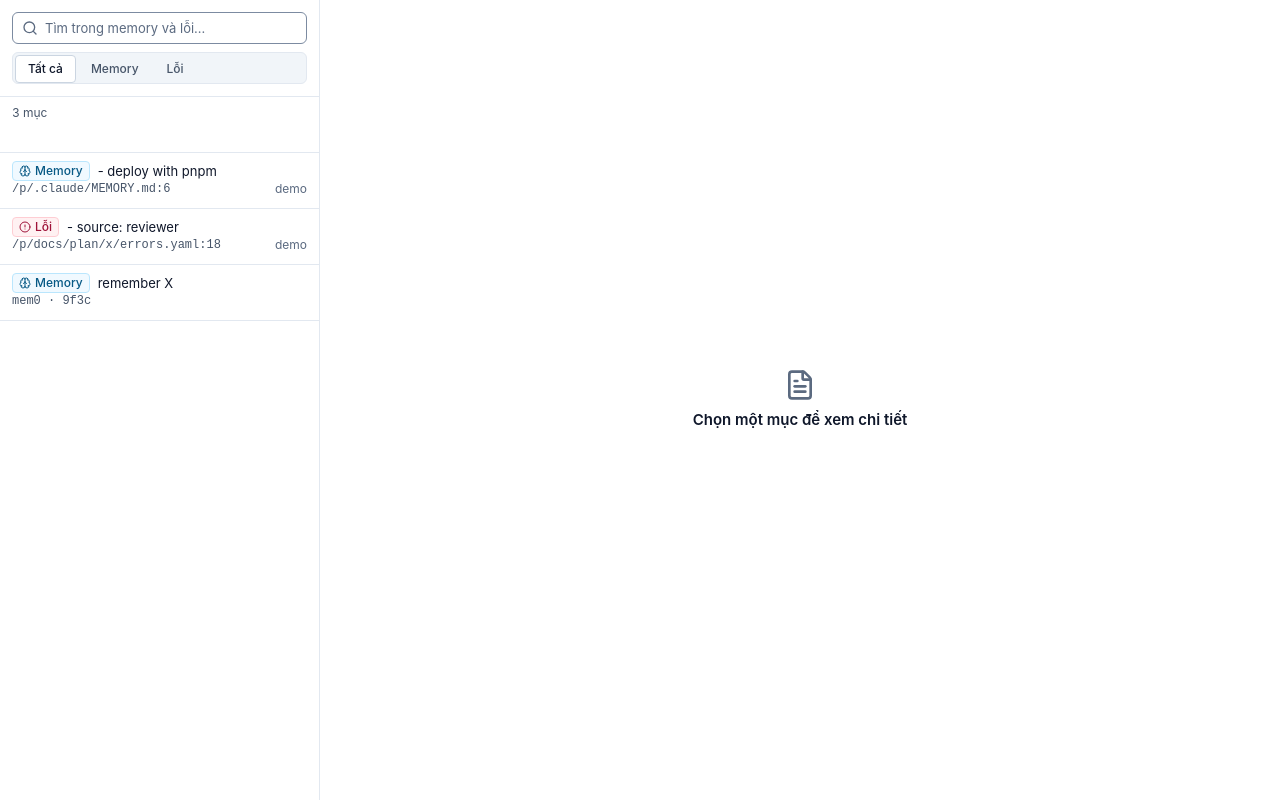
<MemoryTab /> › narrows by kind and by search, with an empty state
Expected: the text "3 mục" is shown, [12, 105, 48, 120]
Click the radio button labelled "Lỗi": click(175, 69) [154, 55, 197, 83]
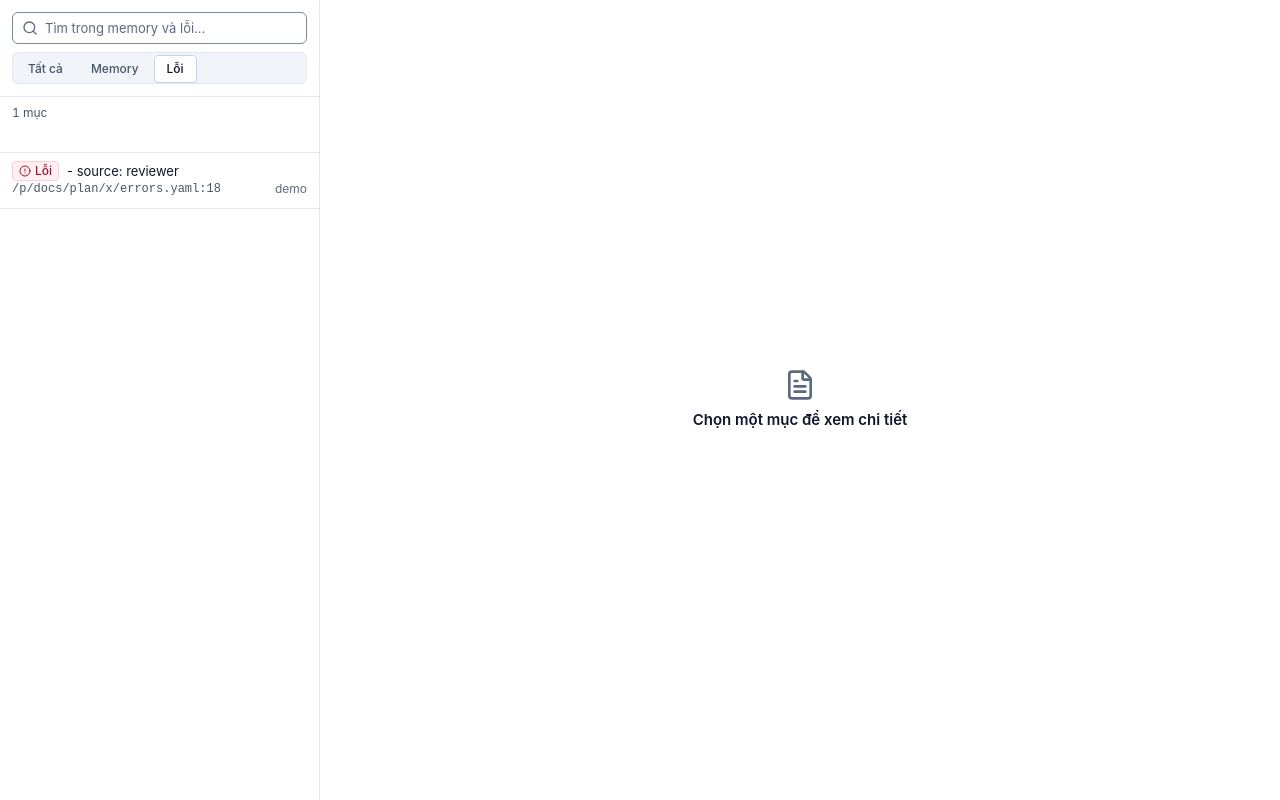
Now the text "1 mục" is shown, box [12, 105, 48, 120]
Click the radio button labelled "Tất cả": click(45, 69) [15, 55, 76, 83]
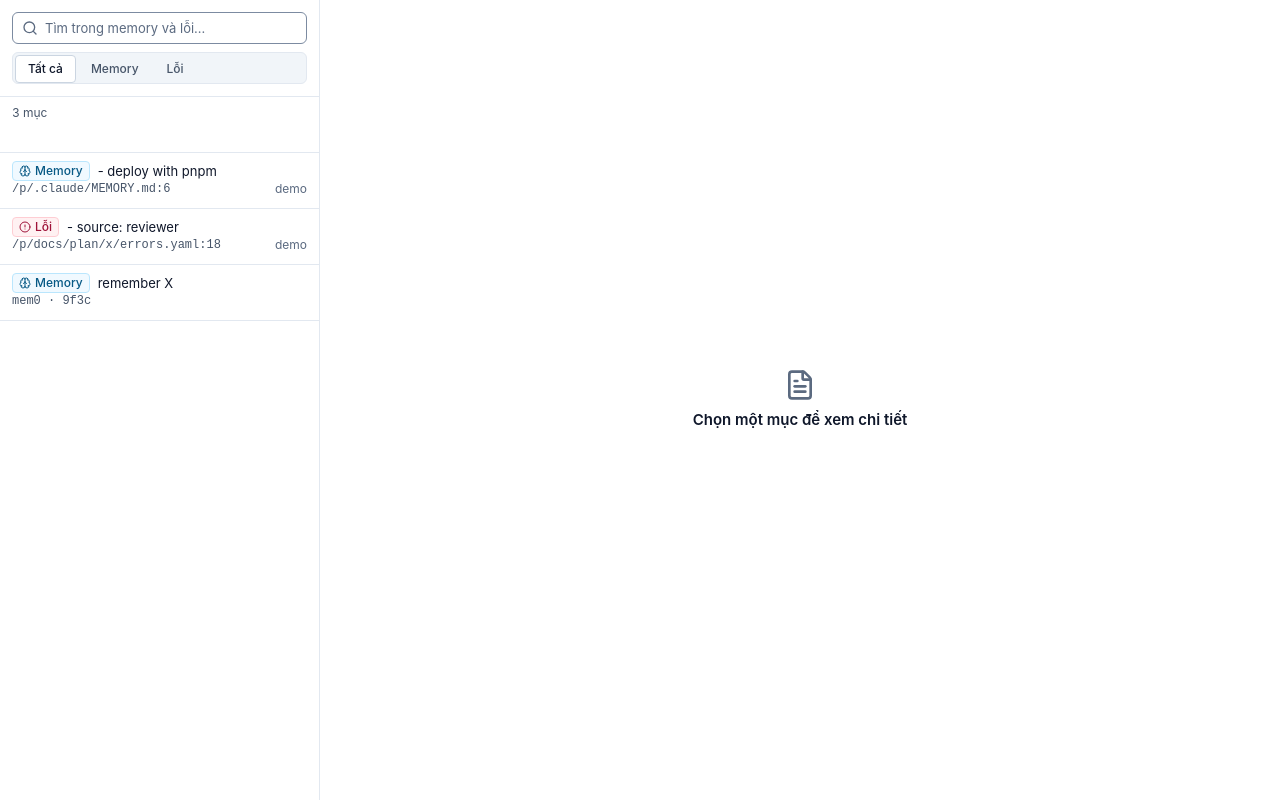
In the search field with placeholder "Tìm trong memory và lỗi…": (160, 28) [12, 12, 307, 44], type "pnpm"
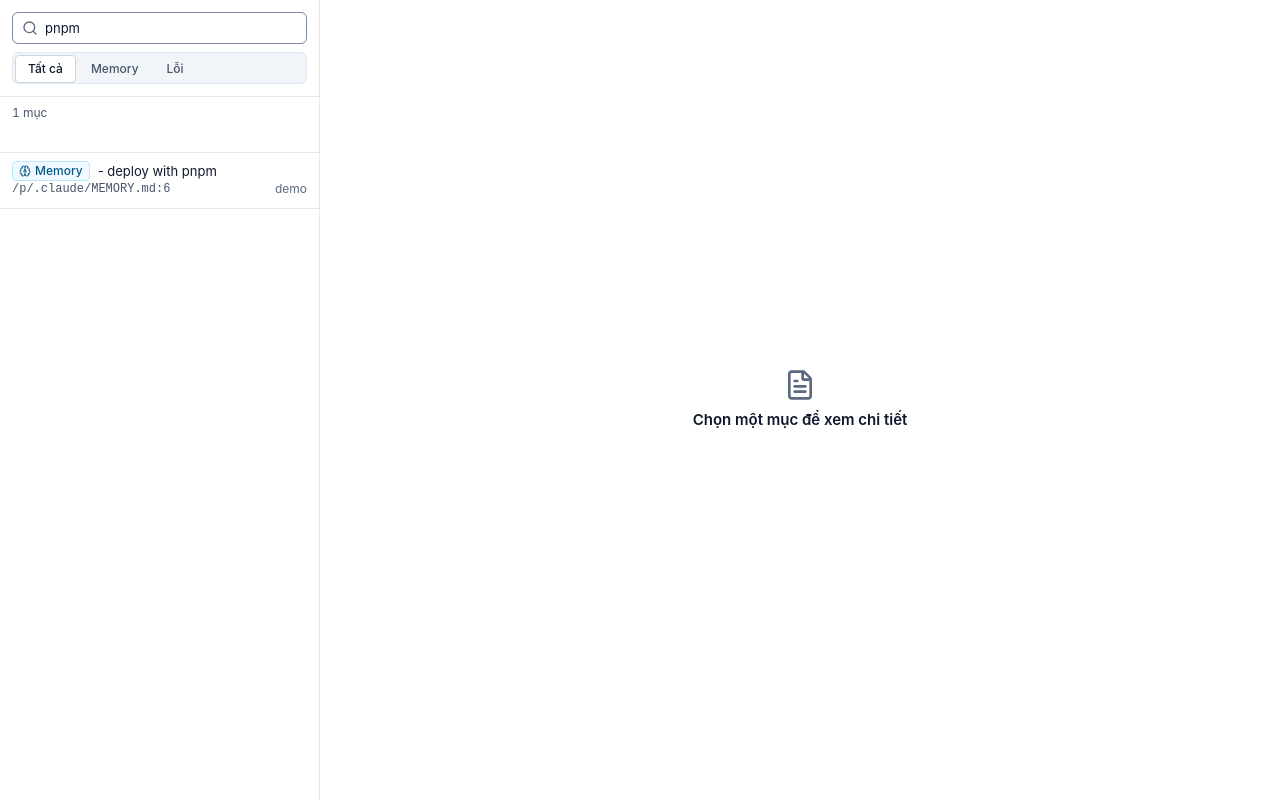
Now the text "1 mục" is shown, box [12, 105, 48, 120]
Replace the text in the search field with placeholder "Tìm trong memory và lỗi…" with "zzz": (160, 28) [12, 12, 307, 44]
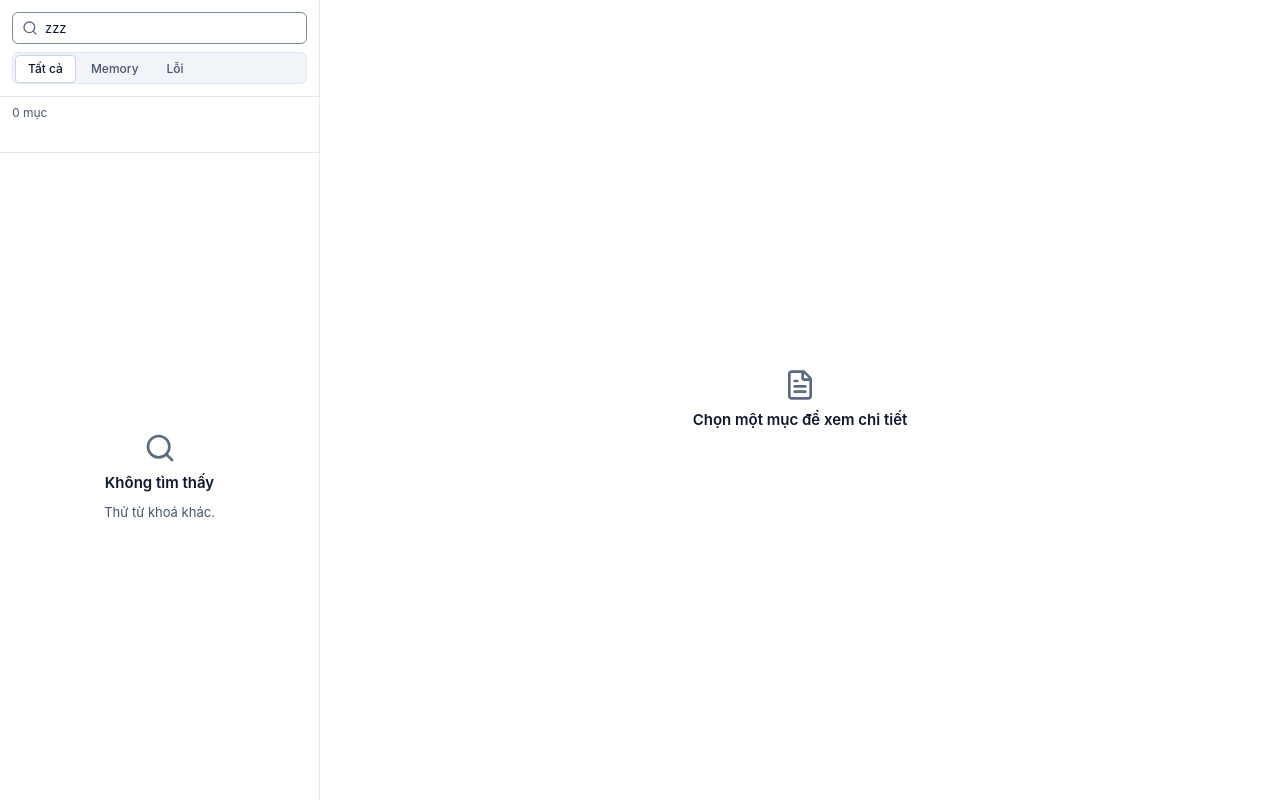
Now the text "Không tìm thấy" is shown, box [105, 472, 214, 494]
